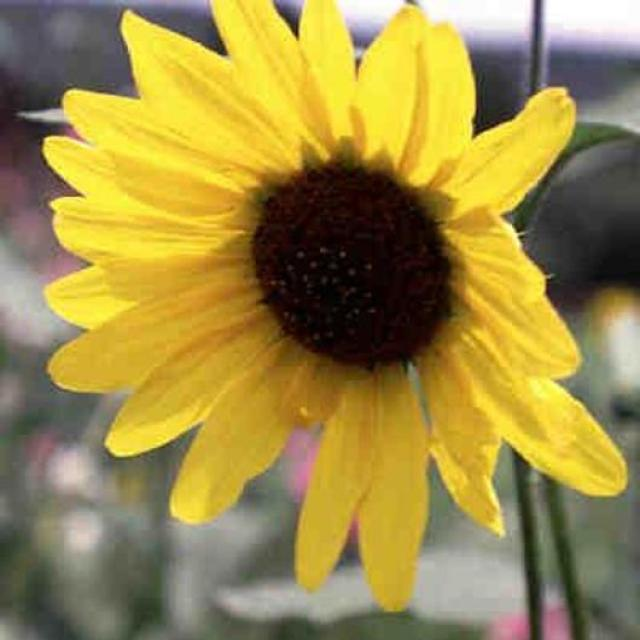sunflower: (33, 0, 640, 623)
